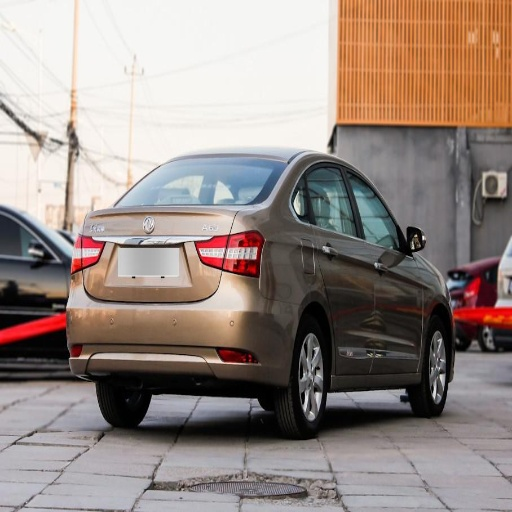back_bumper: (64, 271, 297, 380)
back_right_door: (302, 159, 375, 372)
tailgate: (82, 207, 235, 301)
trunk: (203, 211, 238, 291)
